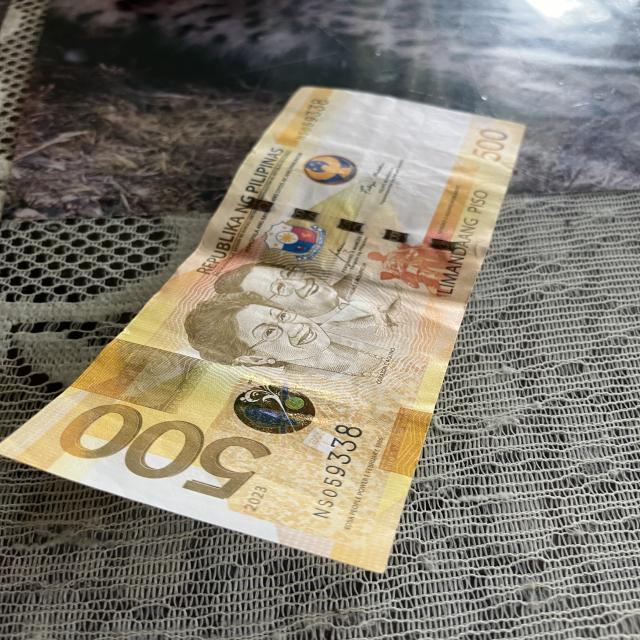concealed_value: (74, 338, 205, 417)
optically_variable_device: (218, 374, 326, 444)
serial_number: (307, 416, 364, 534)
